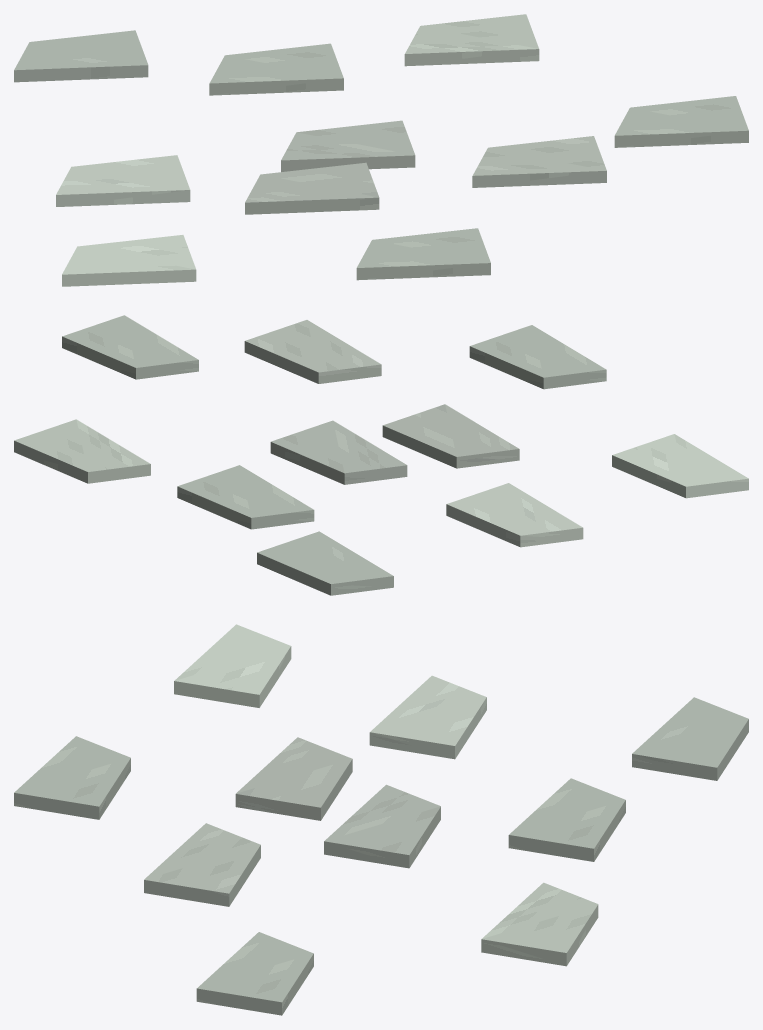
File: chem_agar.glb
3 views of the same model, one above another, from view 1: azimuth 30°, elevation 25°; view 2: azimuth 150°, elevation 25°; view 3: azimuth 270°, elevation 25° (orthographic). The views are drawn at different scales.
Parts seen in each view (by area): view 1: block_clear agar flake (×10); view 2: block_clear agar flake (×10); view 3: block_clear agar flake (×10).
Part boxes in pixels (x1,y1,x2,y2): block_clear agar flake (×10): (14, 14, 748, 286); block_clear agar flake (×10): (14, 315, 748, 595); block_clear agar flake (×10): (14, 624, 748, 1015).
Bounding box in the file's own units: 0.019 × 0.000791 × 0.0159.
Materials: 1 (1 with a texture image).
